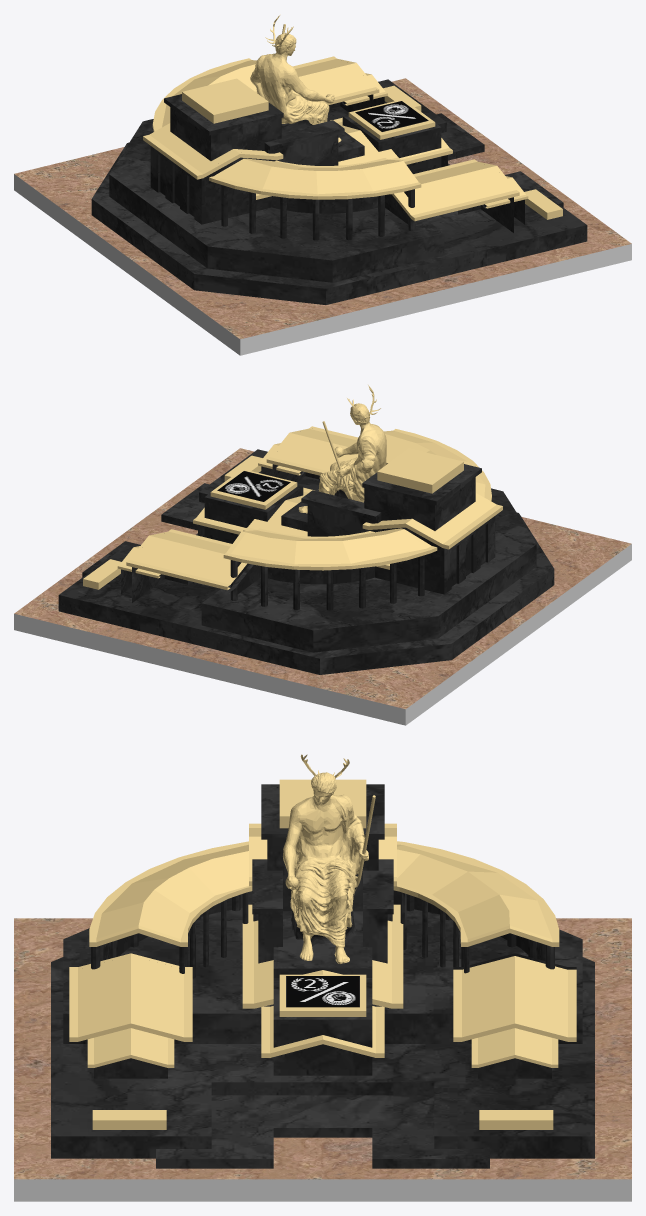
File: buildingTemploJupiter.glb
3 renders of one model, top to bottom at view 1: azimuth 30°, elevation 25°; view 2: azimuth 150°, elevation 25°; view 3: azimuth 270°, elevation 25°, orthographic. The views are drawn at different scales.
Visible parts, largest first — view 1: TemploJupiter; view 2: TemploJupiter; view 3: TemploJupiter.
Boxes of the visible parts, x1,y1,x2,y2 form: TemploJupiter: [14, 14, 631, 355]; TemploJupiter: [14, 385, 631, 725]; TemploJupiter: [14, 754, 631, 1201].
Size of the model in its own units: 5 by 2.61 by 5.
5 materials, 3 textured.
